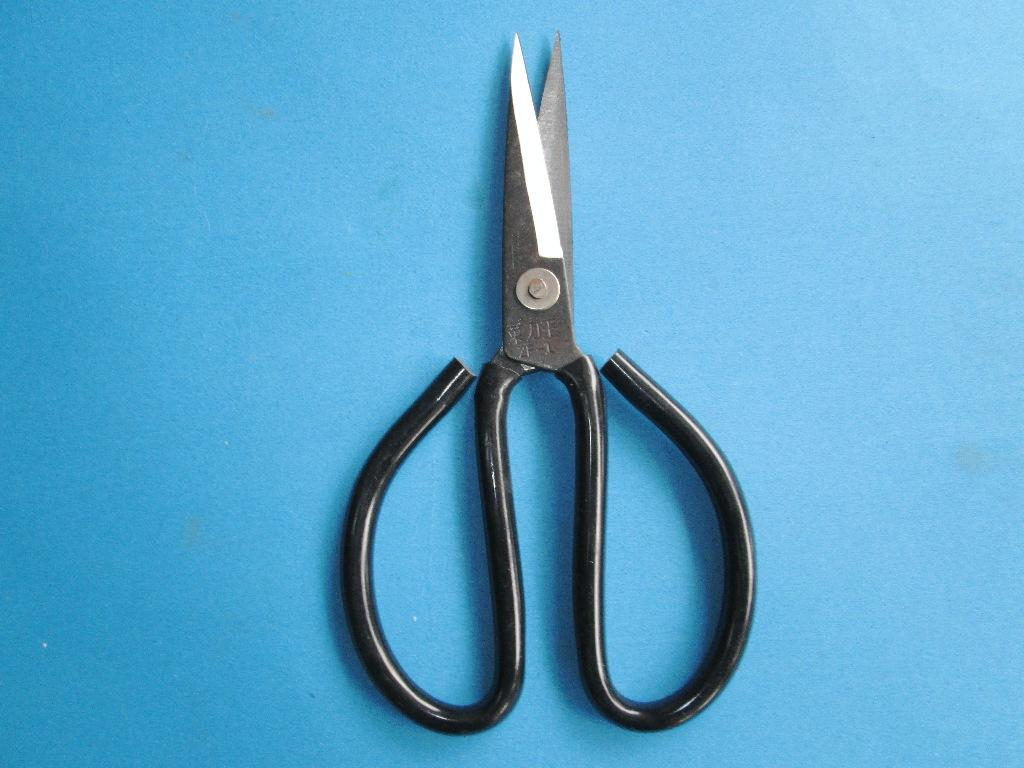scissor: (302, 59, 764, 730)
